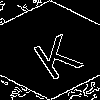K: (25, 25, 85, 82)
